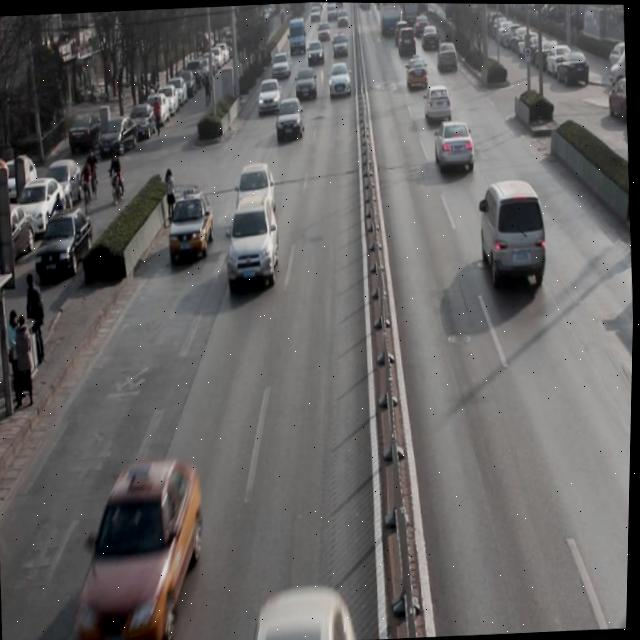car: (72, 460, 211, 640), (226, 197, 284, 293), (167, 189, 218, 264), (433, 112, 477, 174), (235, 160, 280, 218), (274, 91, 306, 143), (423, 81, 454, 126), (403, 50, 430, 90), (257, 74, 282, 113), (327, 61, 352, 99), (294, 66, 318, 101)
truck: (475, 175, 552, 293)
